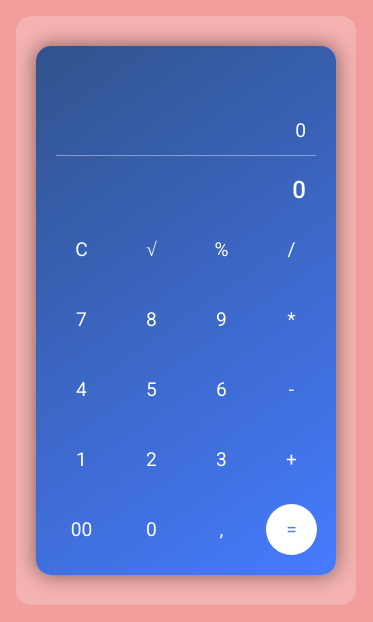
Test: Calculator › should update input when buttons are clicked
The width and height of the screenshot is (373, 622).
What coordinates should you click on to do the following:
click the button with test id "btn-1"
I would click on:
 (82, 459)
Its box is x1=56 y1=434 x2=107 y2=484.
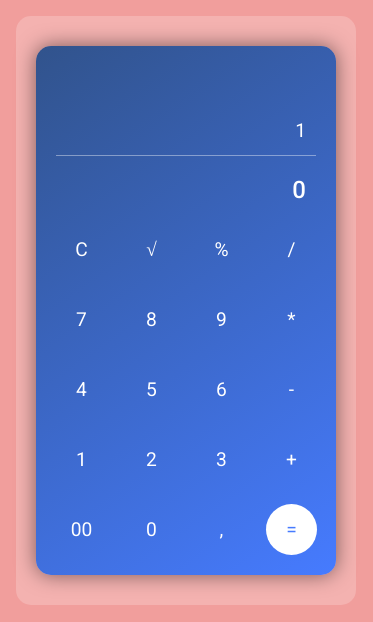
What coordinates should you click on to do the following:
click the button with test id "btn-+"
I would click on:
 (292, 459)
Its box is x1=266 y1=434 x2=317 y2=484.
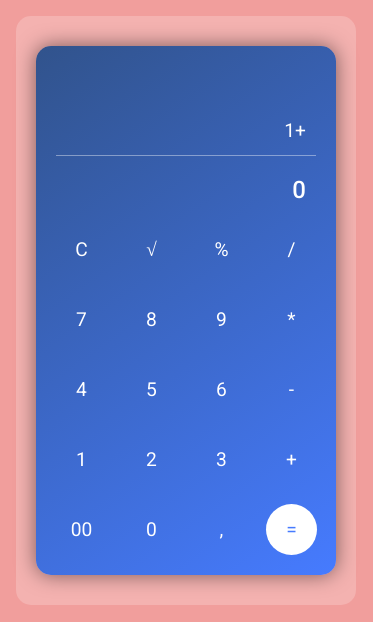
What coordinates should you click on to do the following:
click the button with test id "btn-2"
I would click on:
 (152, 459)
Its box is x1=126 y1=434 x2=177 y2=484.
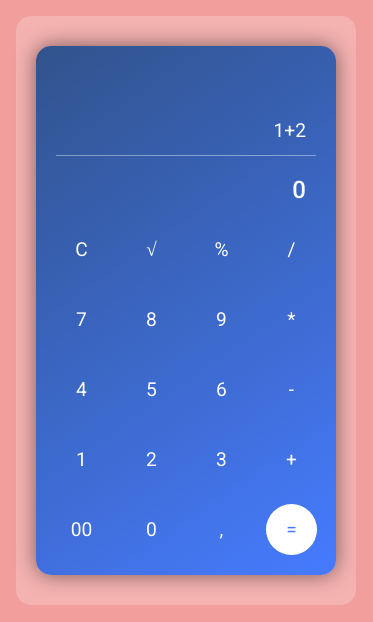
What coordinates should you click on to do the following:
click the button with test id "btn-="
I would click on:
 (292, 529)
Its box is x1=266 y1=504 x2=317 y2=554.
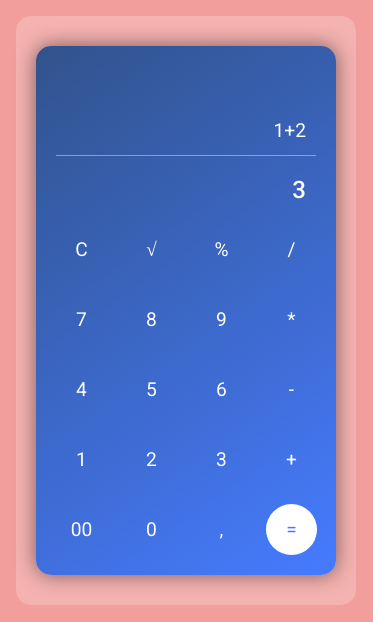
Expected: the text with test id "input-display" reads "1+2", x1=274 y1=118 x2=306 y2=142
Expected: the text with test id "result-display" reads "3", x1=292 y1=176 x2=306 y2=204
